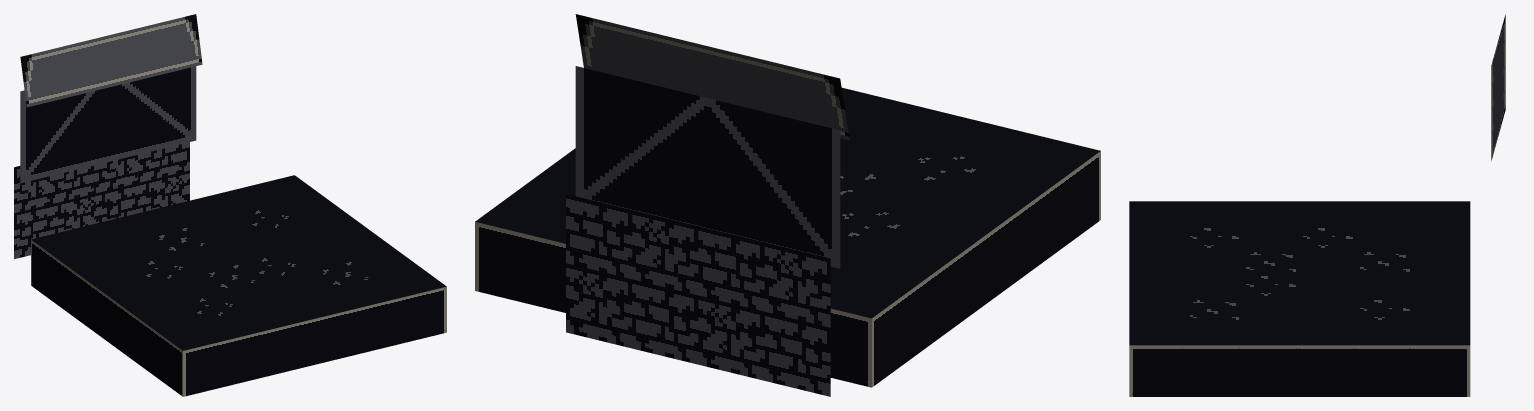
The picture shows the model from 3 angles, left to right: view 1: azimuth 30°, elevation 25°; view 2: azimuth 150°, elevation 25°; view 3: azimuth 270°, elevation 25°; orthographic projection. The views are drawn at different scales.
Visible parts, largest first — view 1: Default.001, Default; view 2: Default, Default.001; view 3: Default.001, Default.
Part boxes in pixels (box(x1,y1,x2,y2)): Default.001: box(31, 175, 446, 396); Default: box(14, 14, 202, 259); Default: box(566, 14, 849, 396); Default.001: box(475, 87, 1100, 387); Default.001: box(1129, 201, 1470, 396); Default: box(1491, 14, 1505, 160).
Size of the model in its own units: 6 by 4.69 by 6.87.
Materials: 2 (2 with a texture image).
